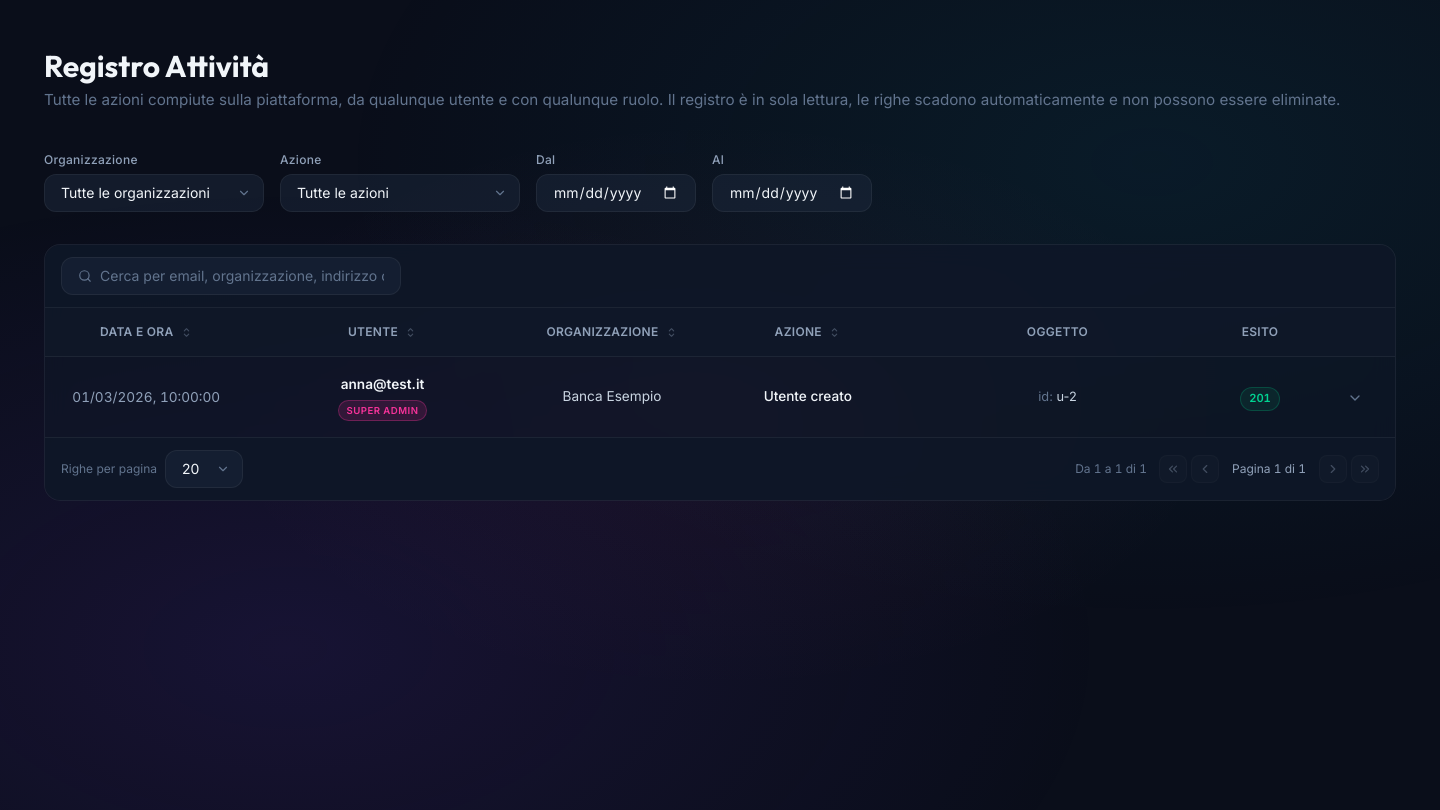
Test: il pannello di una riga › si apre e si richiude col mouse
Click the text "Utente creato".
click(808, 396)  # box [764,388,852,404]
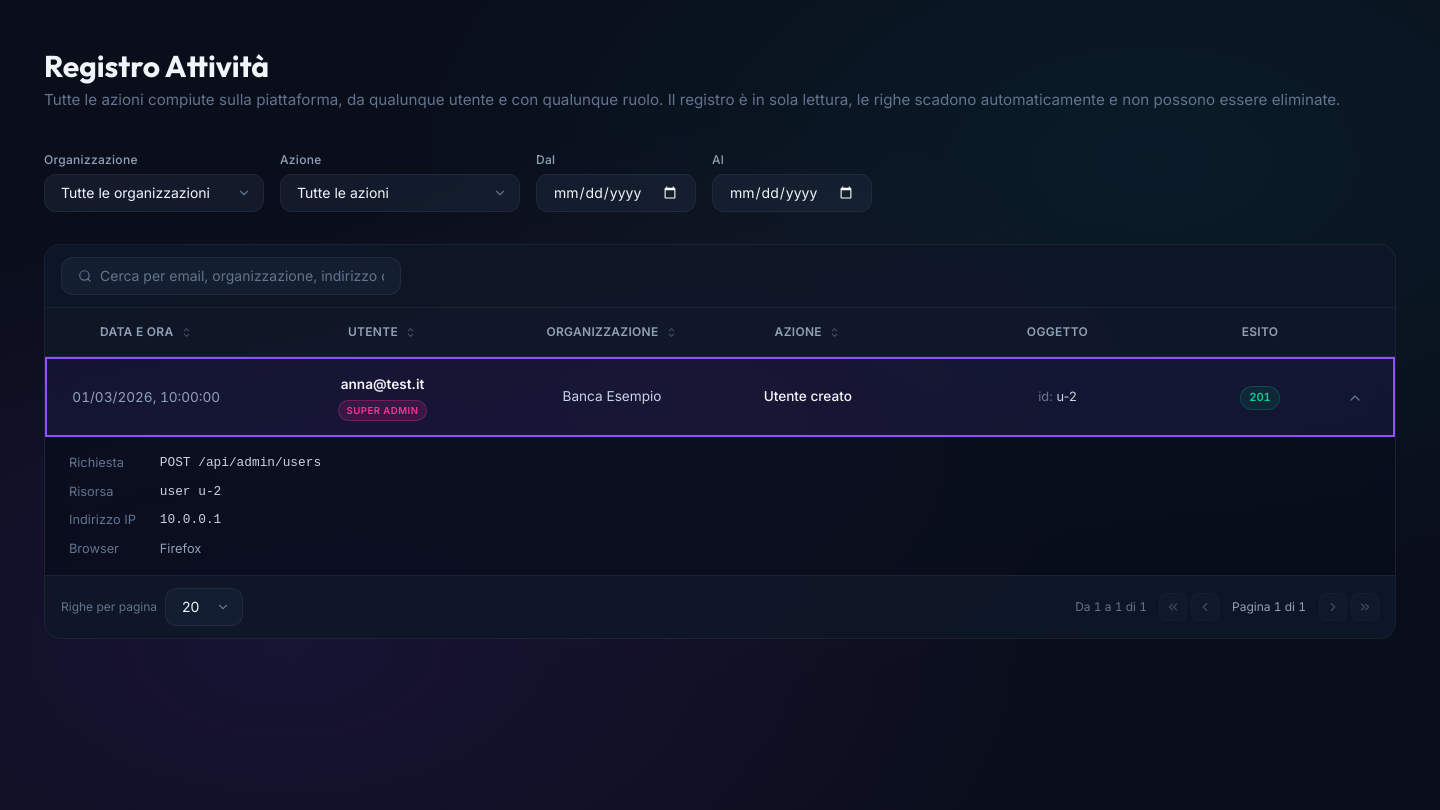
Expected: the text "POST /api/admin/users" is shown, [160,455,321,470]
Expected: the text "10.0.0.1" is shown, [160,512,221,527]
Click the text "Utente creato".
click(808, 396)  # box [764,388,852,404]
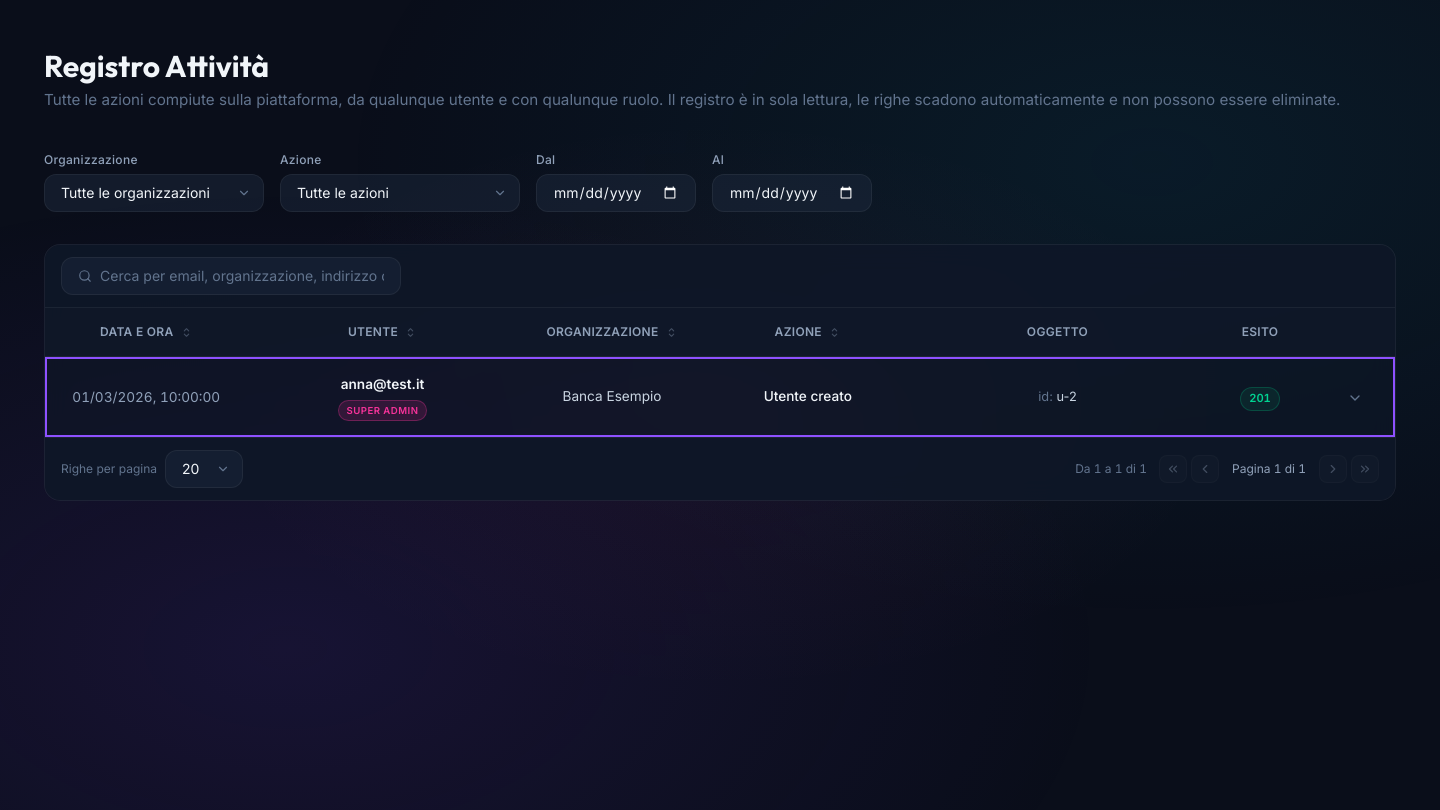
Expected: the text "POST /api/admin/users" is gone
